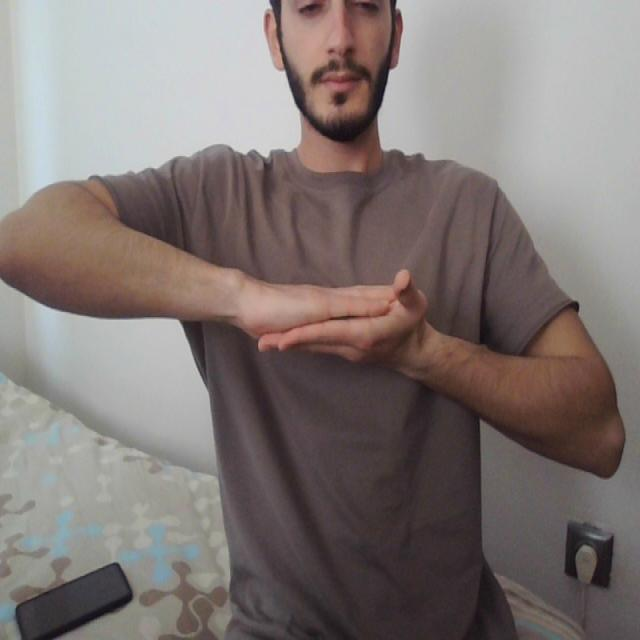Arkadas: (148, 233, 488, 385)
